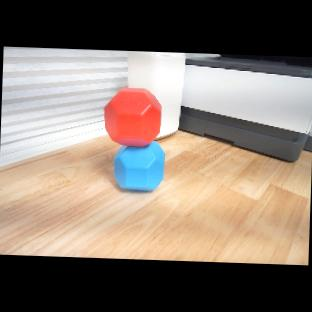V5_BLUE: (114, 141, 165, 191), (114, 147, 166, 192)
V5_RED: (102, 86, 167, 148), (104, 87, 161, 147)
